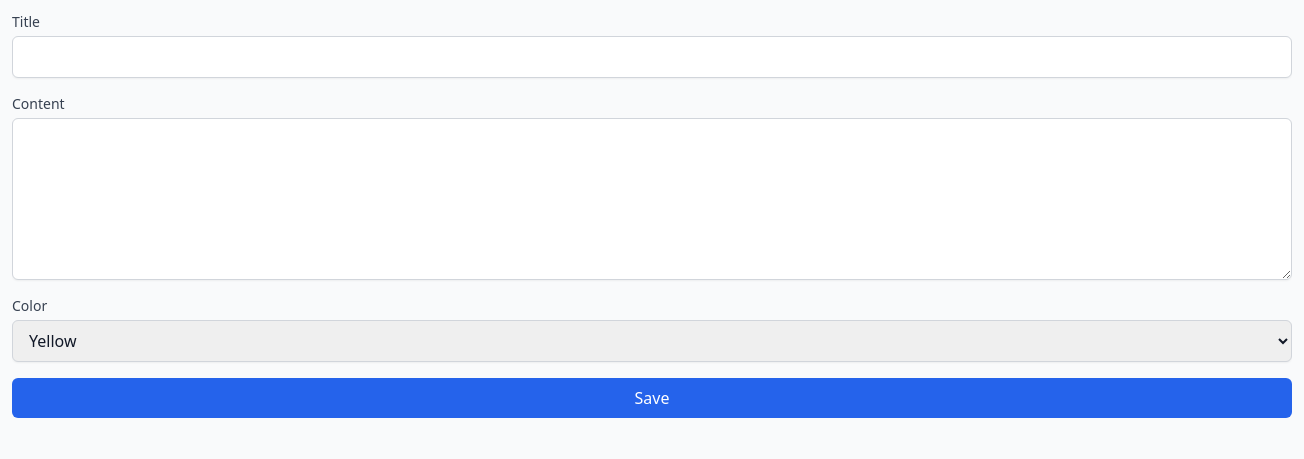
Test: NoteForm › should show validation error for empty title
Click the button "Save".
click(652, 398)  # box [12, 378, 1292, 418]
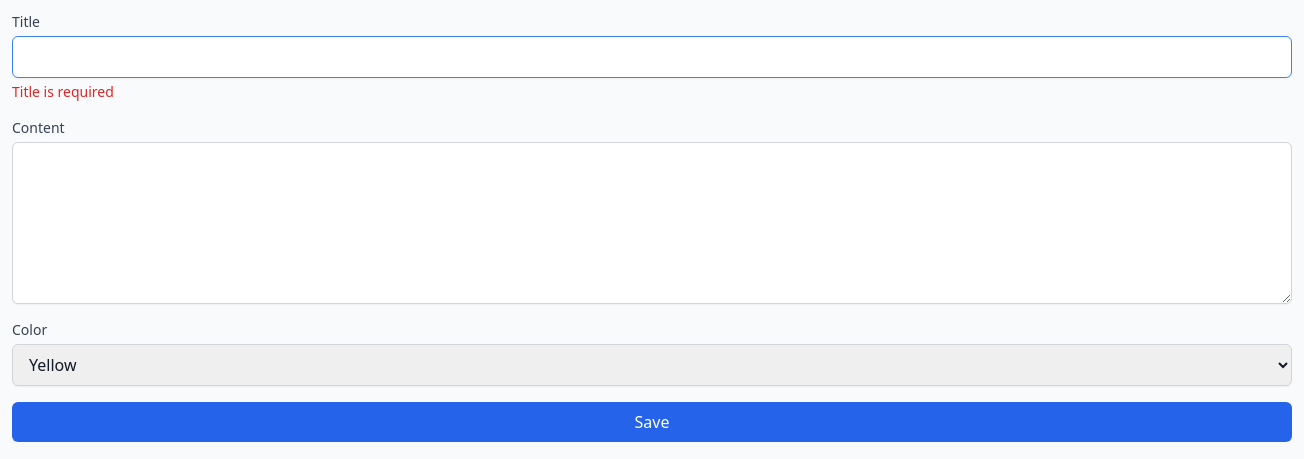
Expected: the text "Title is required" is shown, [12, 82, 114, 101]
